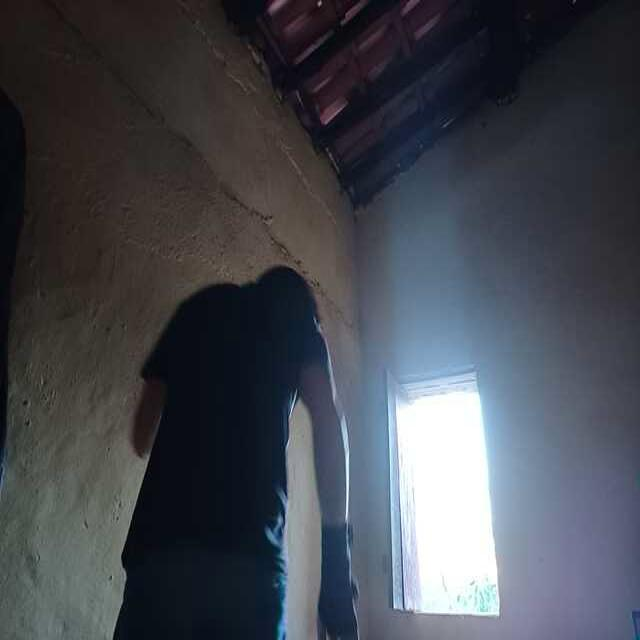pessoa: (116, 256, 351, 639)
